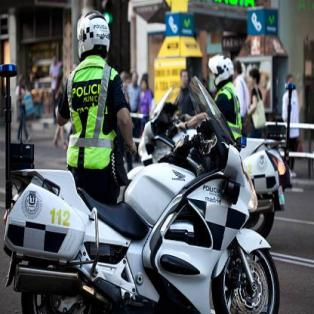Motocicleta: (8, 122, 283, 313)
